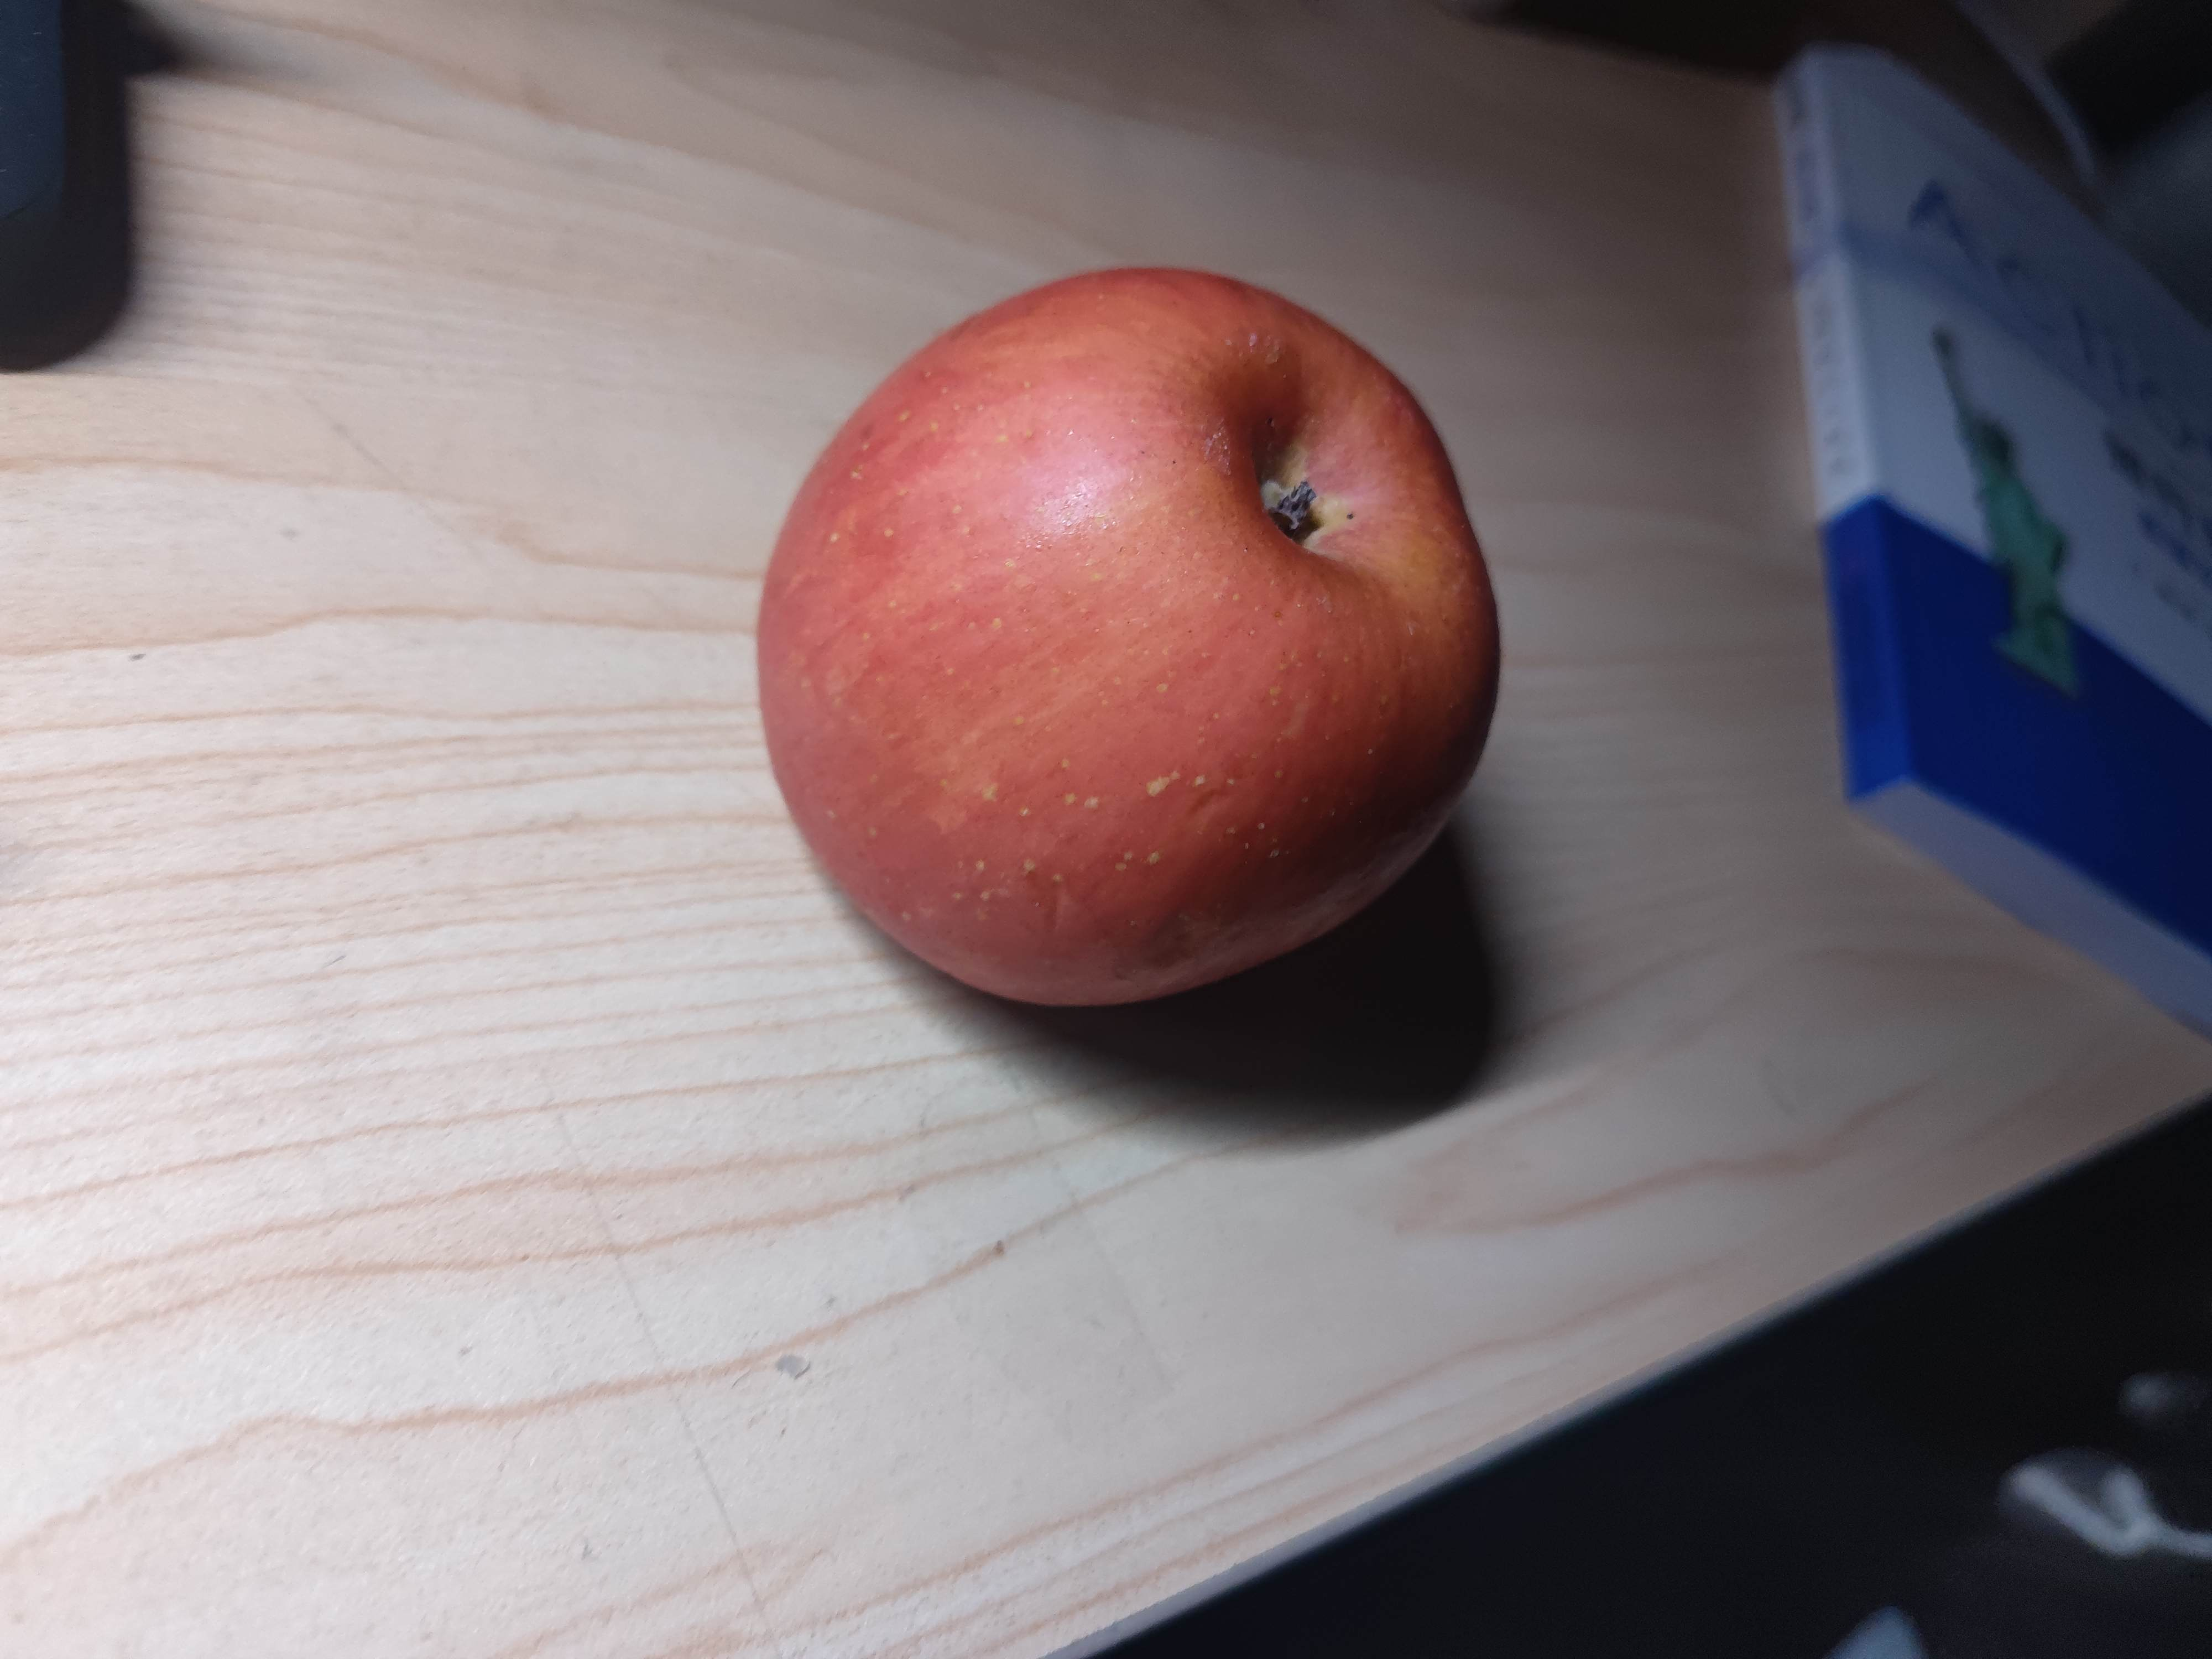apple: (745, 268, 1505, 1023)
